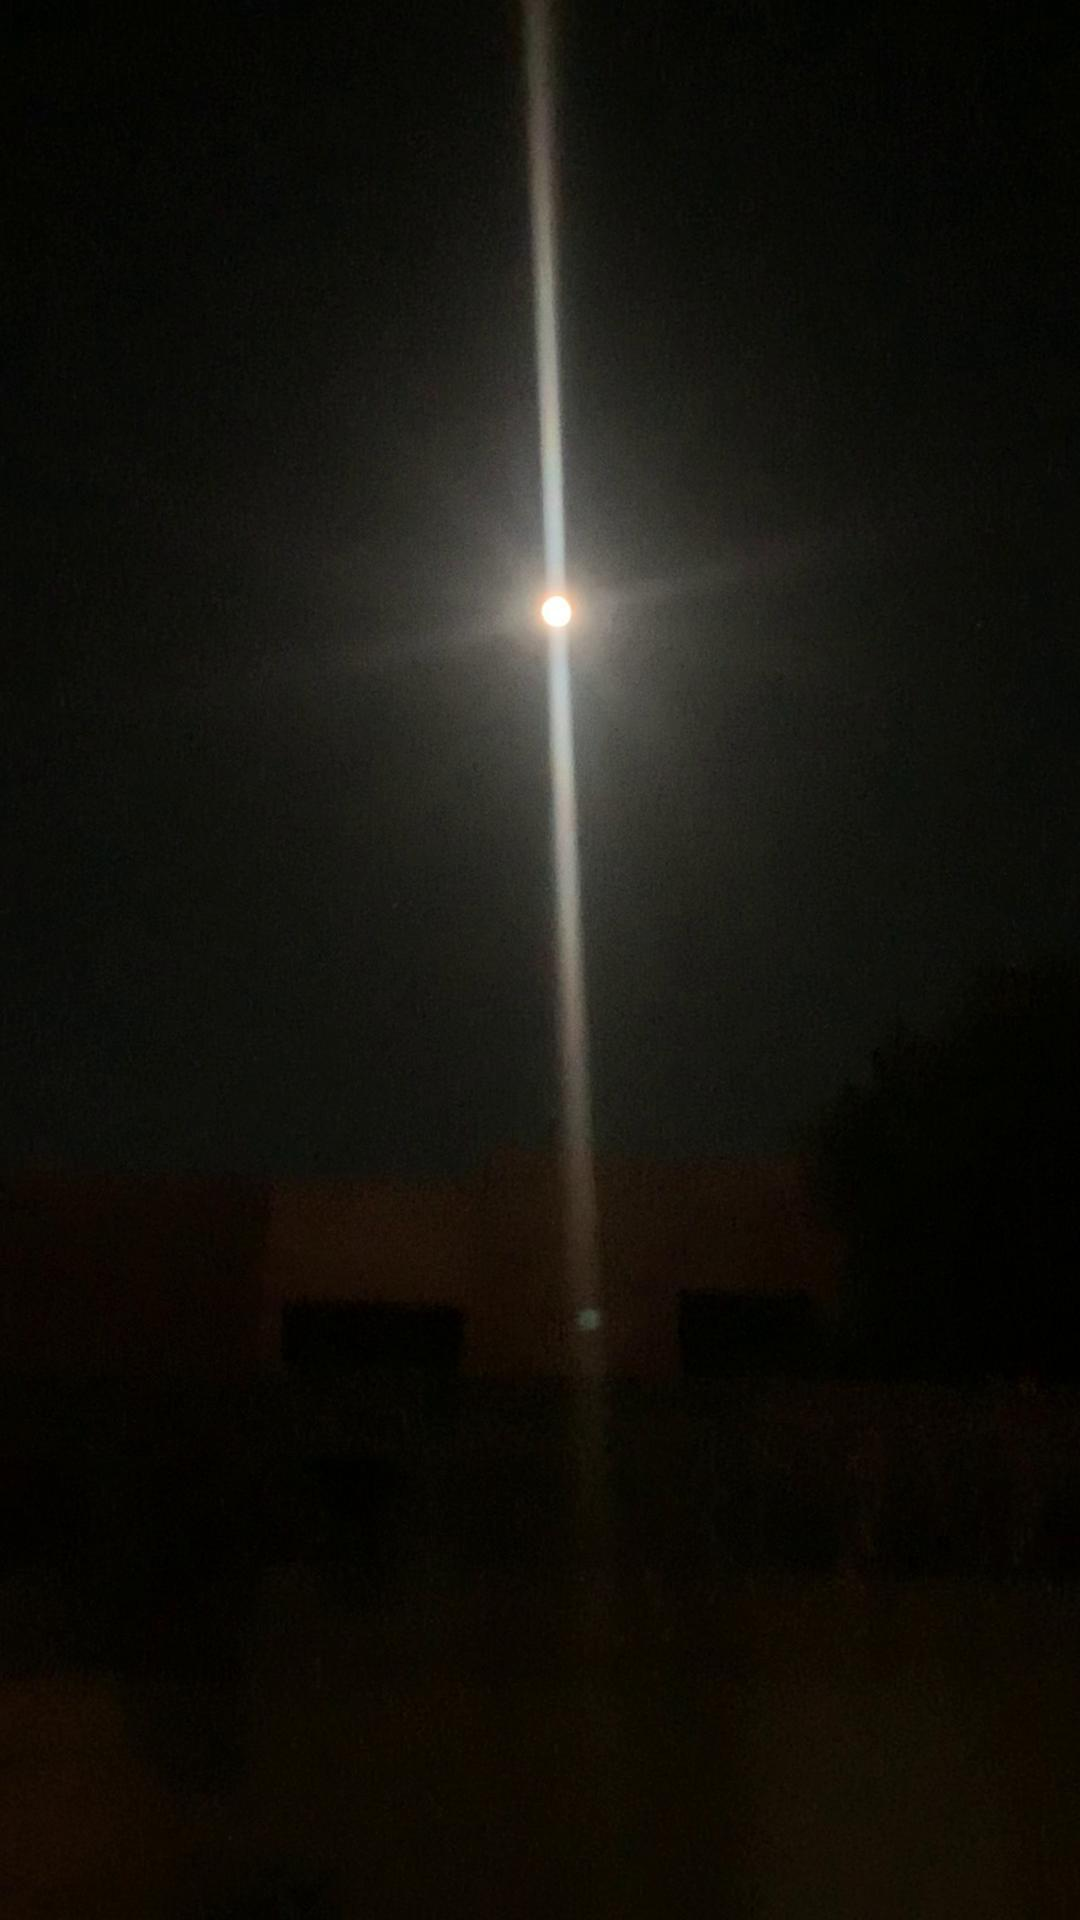moon: (509, 556, 617, 655)
